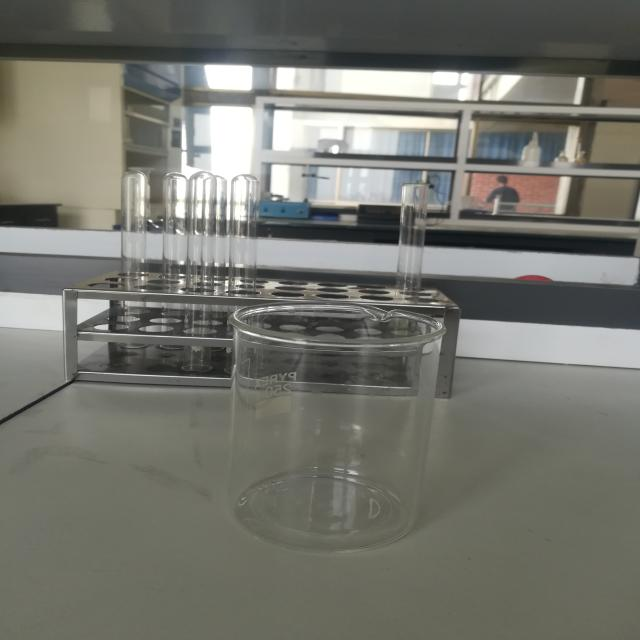Beaker: (222, 289, 466, 568)
Test_Tube: (88, 136, 272, 374)
